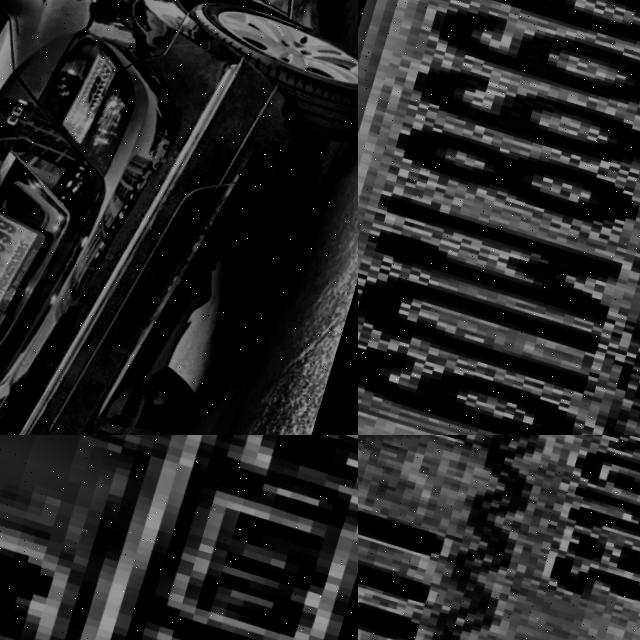license-plate: (358, 0, 640, 435), (0, 435, 358, 640), (358, 435, 640, 640), (0, 199, 48, 315)
